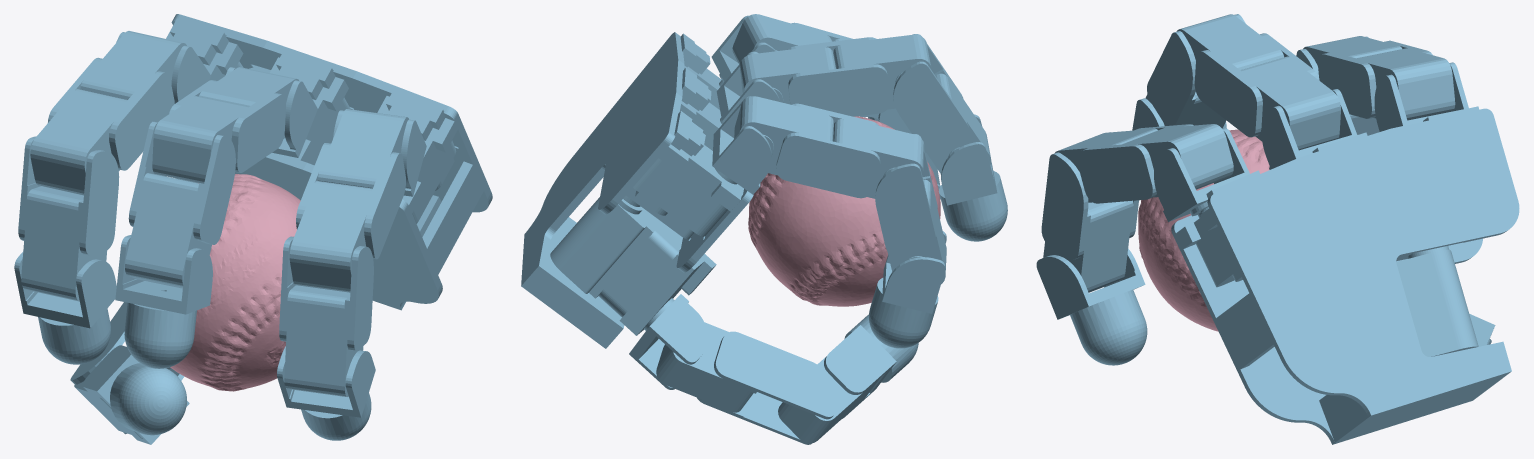
The picture shows the model from 3 angles, left to right: view 1: azimuth 30°, elevation 25°; view 2: azimuth 150°, elevation 25°; view 3: azimuth 270°, elevation 25°; orthographic projection. The views are drawn at different scales.
Parts seen in each view (by area): view 1: world, baseball.stl; view 2: world, baseball.stl; view 3: world, baseball.stl.
Boxes of the visible parts, x1,y1,x2,y2 form: world: [14, 14, 492, 444]; baseball.stl: [170, 174, 300, 391]; world: [521, 14, 1007, 444]; baseball.stl: [748, 116, 940, 306]; world: [1036, 14, 1519, 444]; baseball.stl: [1138, 129, 1269, 331].
Bounding box in the file's own units: 0.1796 × 0.1437 × 0.1696.
